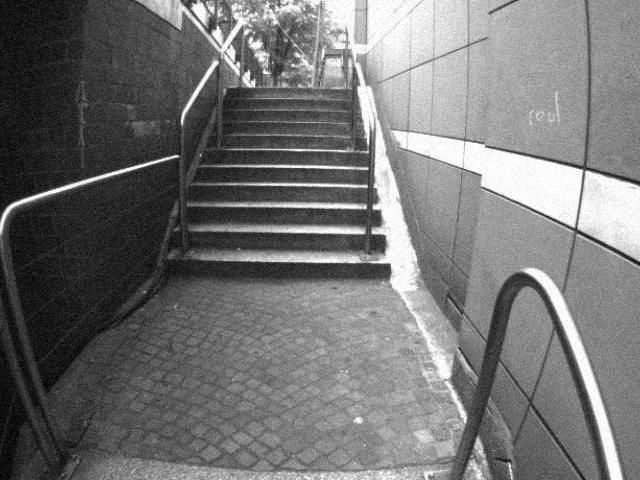Escaleras: (170, 77, 391, 285), (11, 439, 485, 480)
